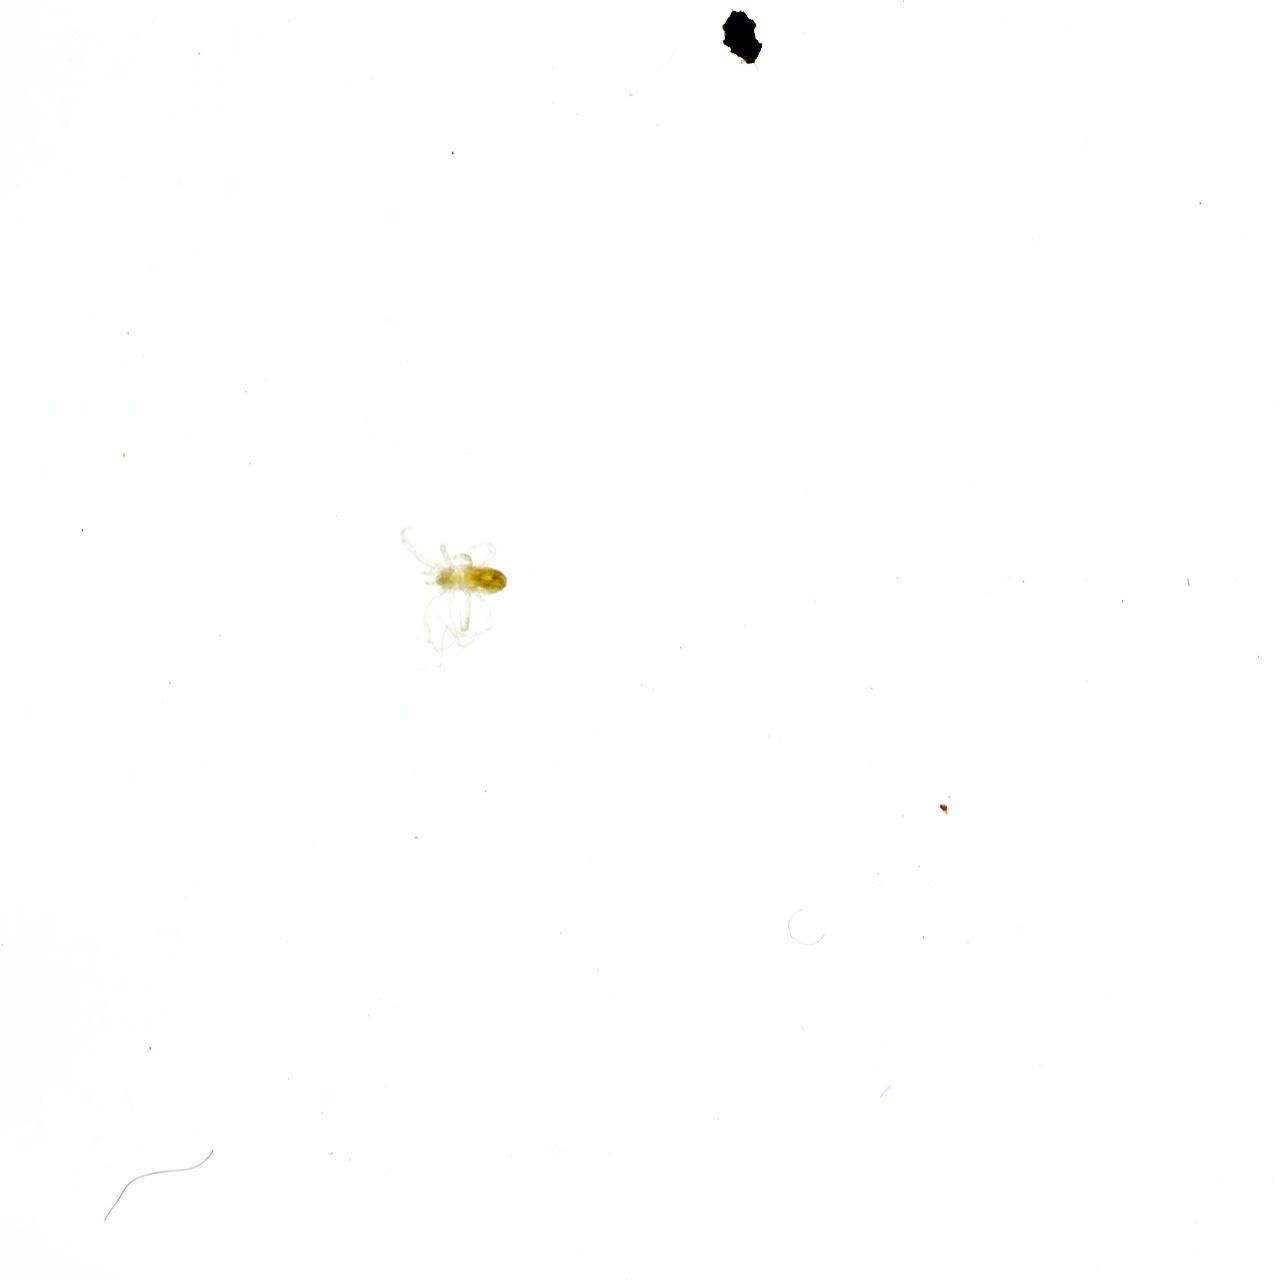arthropod: (388, 519, 512, 674)
